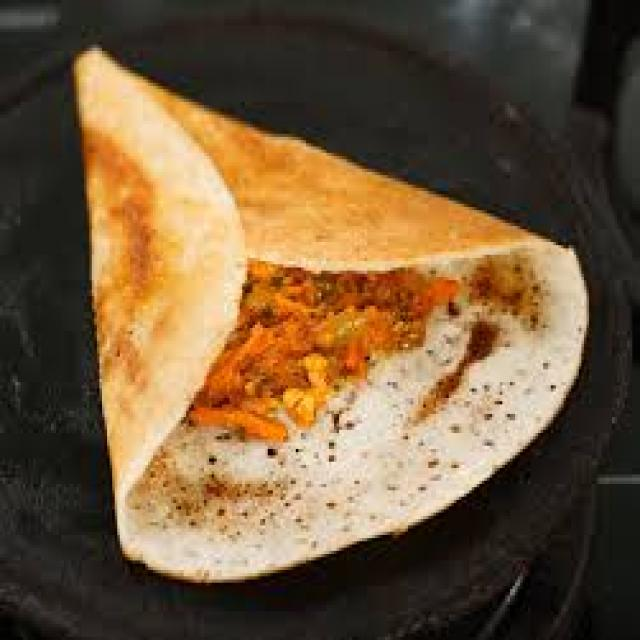DOSA: (76, 48, 586, 580)
